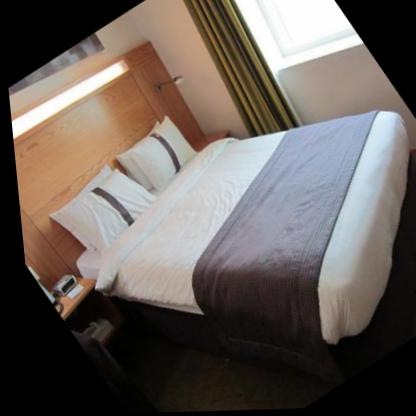Bed: (48, 114, 416, 367)
Carpet: (408, 155, 416, 339)
Curtains: (183, 0, 301, 139)
